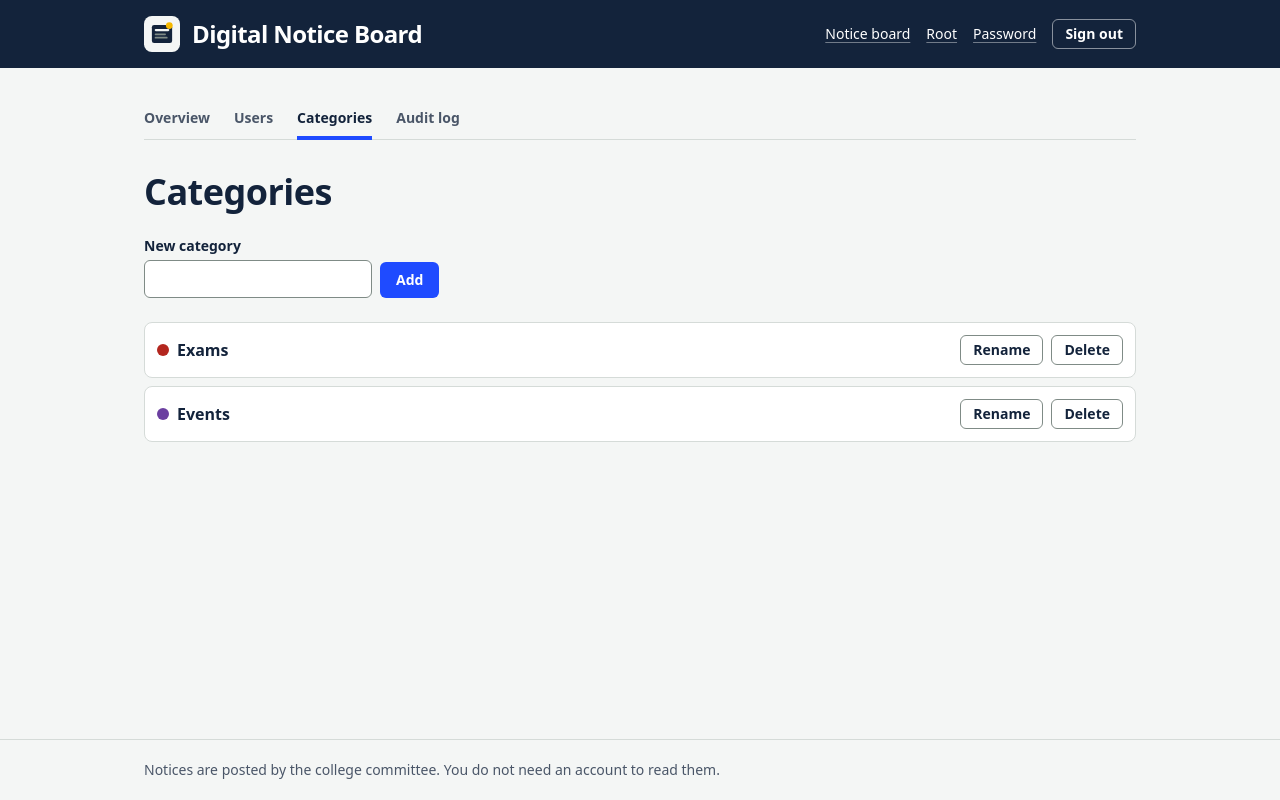
Test case: categories page › explains that a category in use cannot be deleted
Expected: the text "Exams" is shown, [157,338,228,362]
Click the button "Delete" in the row of "Exams". click: click(1087, 350)
box: [1052,335,1123,365]
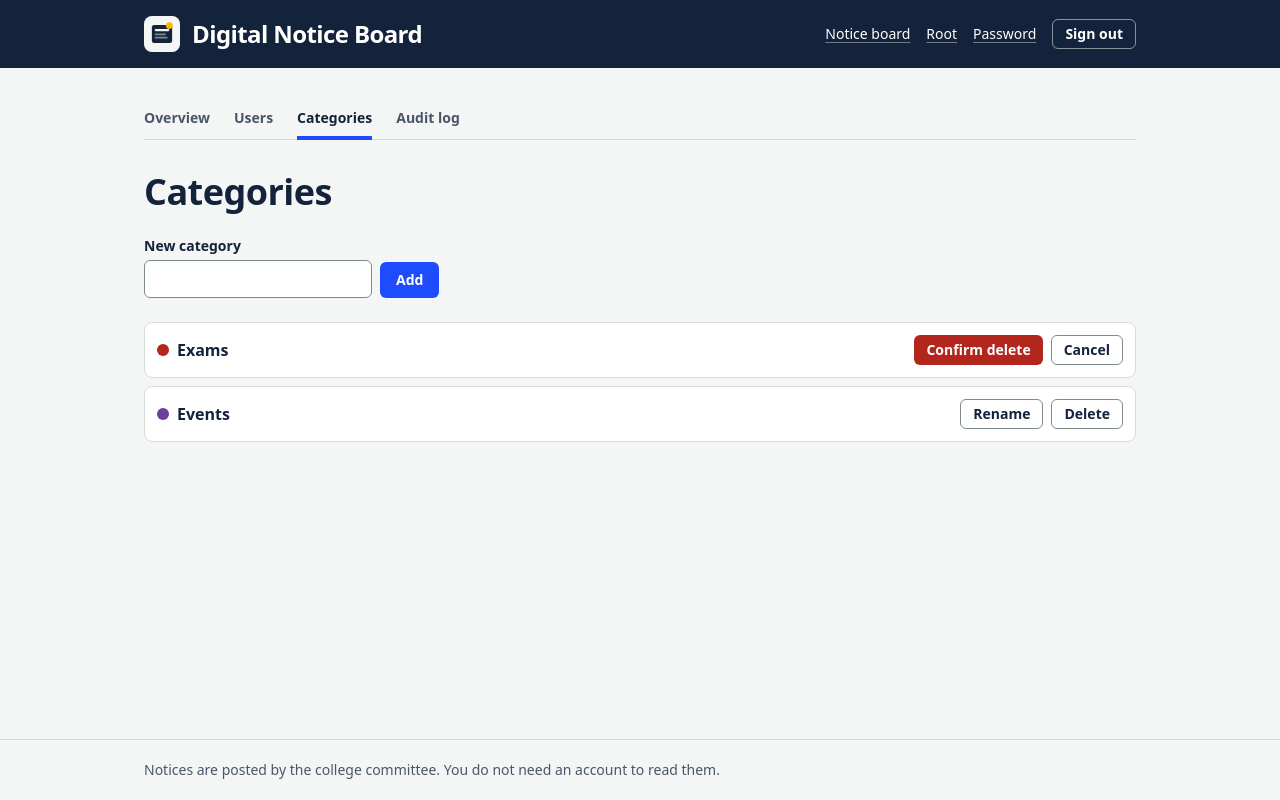
Click the button "Confirm delete". click: click(979, 350)
box: [914,335,1043,365]
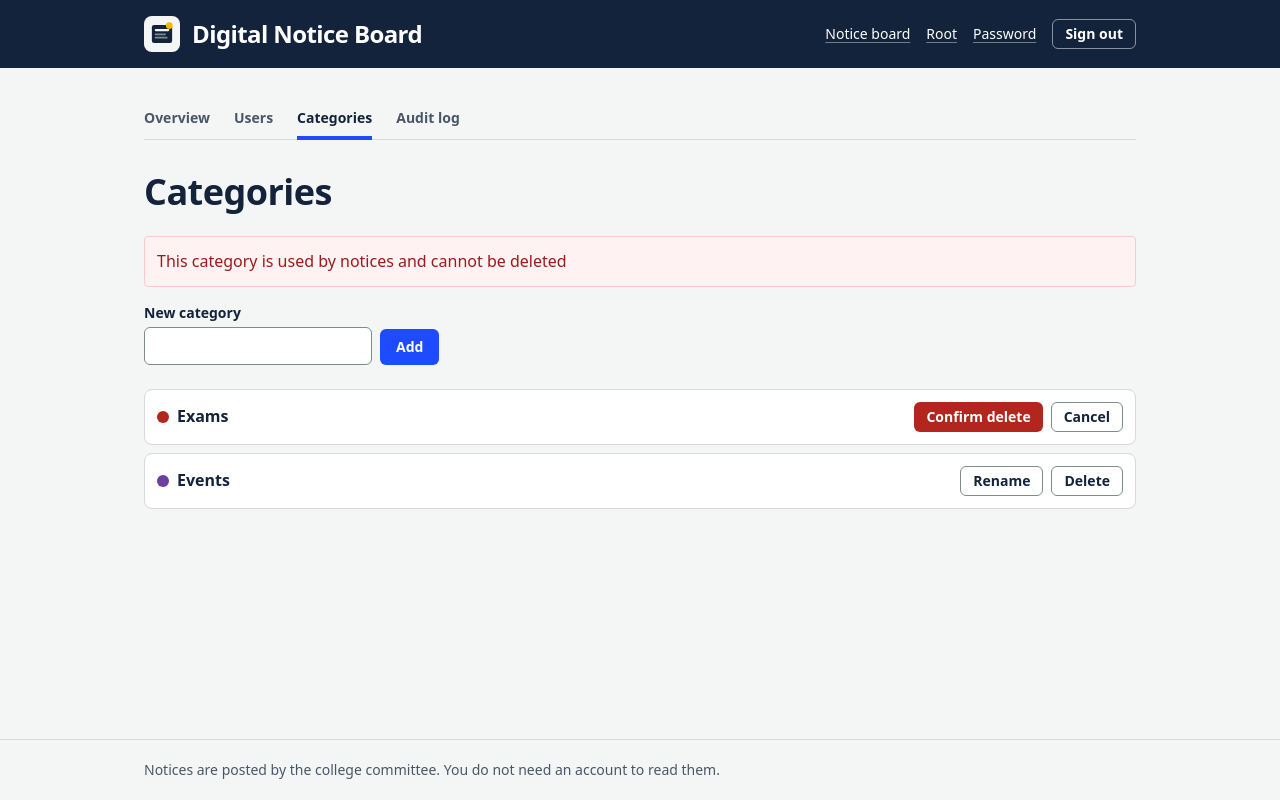
Expected: the text "Exams" is shown, [157,404,228,429]
Now the message shows "used by notices", box [157,250,567,272]
